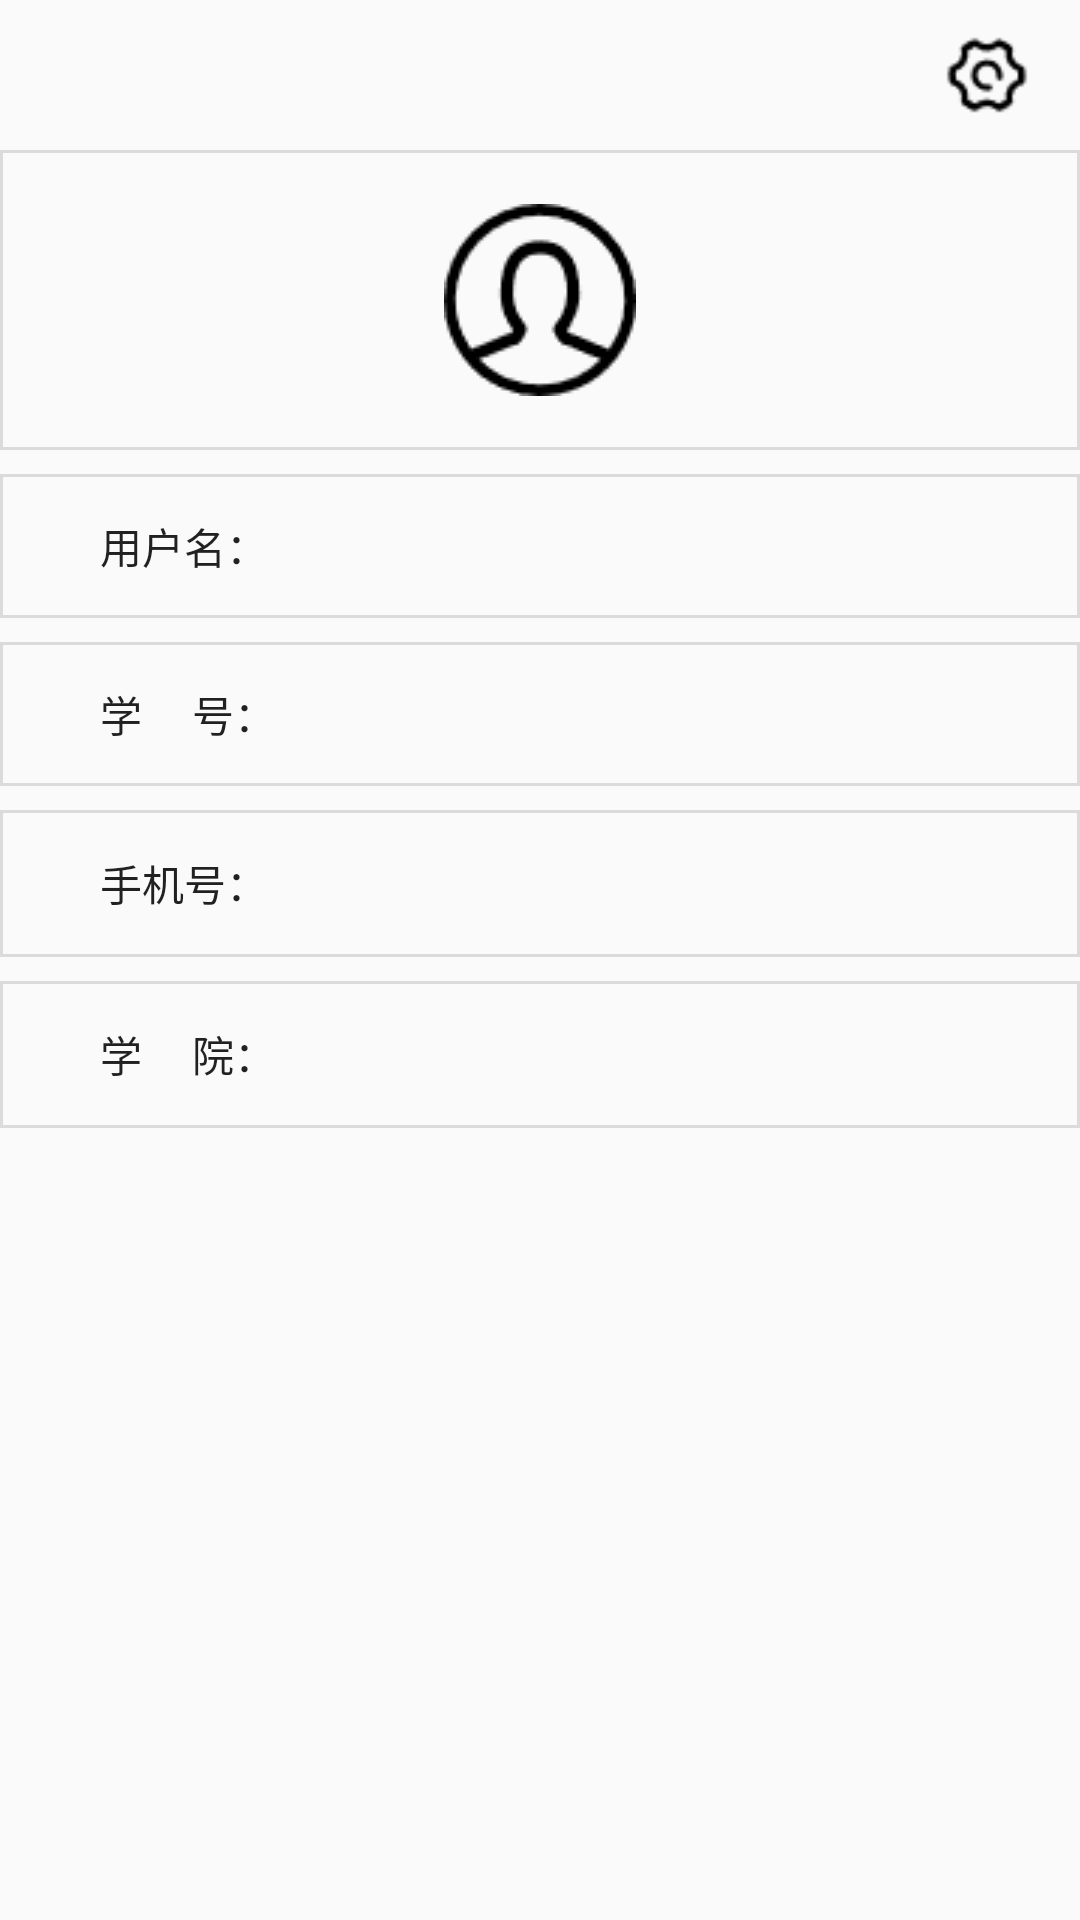

Icons on this 1080px x 1920px Android screen, each with the point to tap as [x,y]:
setting: [987,75]
